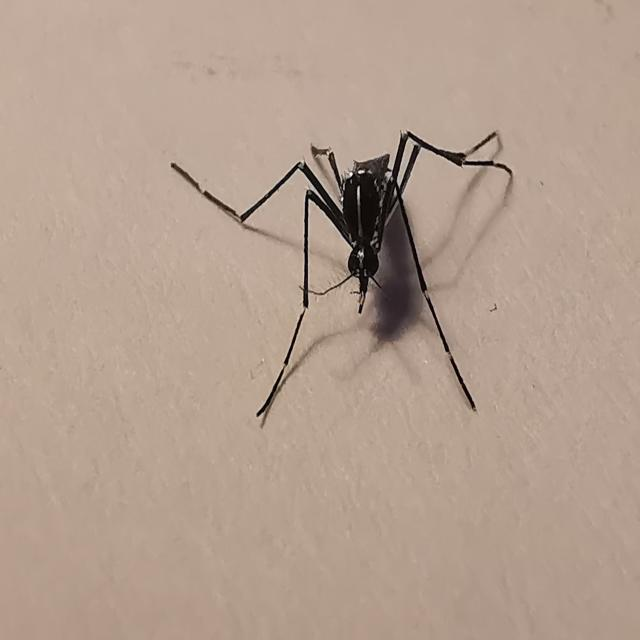albopictus: (178, 87, 507, 428)
